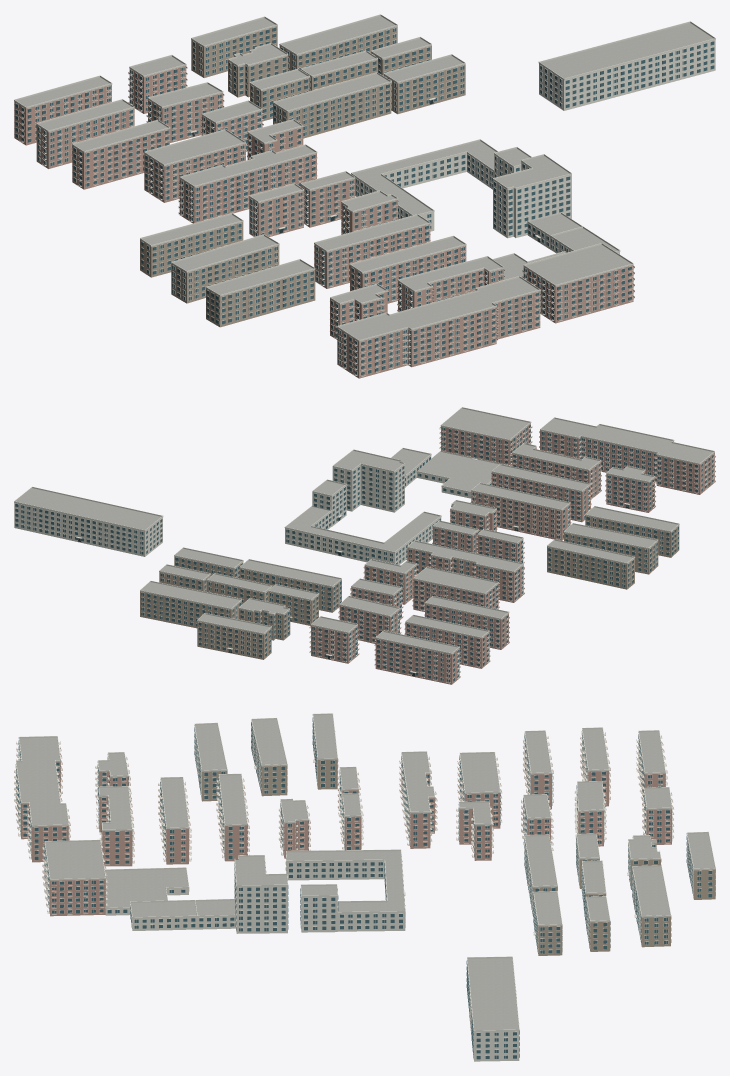
File: chunk-p1-p0.glb
3 renders of one model, top to bottom at view 1: azimuth 30°, elevation 25°; view 2: azimuth 150°, elevation 25°; view 3: azimuth 270°, elevation 25°, orthographic. The views are drawn at different scales.
Visible parts, largest first — view 1: chunk-p1-p0; view 2: chunk-p1-p0; view 3: chunk-p1-p0.
Part boxes in pixels (x1,y1,x2,y2): chunk-p1-p0: [14, 14, 715, 378]; chunk-p1-p0: [14, 407, 715, 684]; chunk-p1-p0: [14, 713, 715, 1061].
Bounding box in the file's own units: 374 × 28.93 × 363.
Materials: 6 (2 with a texture image).
